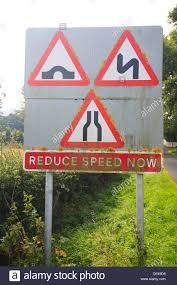narrow_road: (56, 88, 124, 147)
